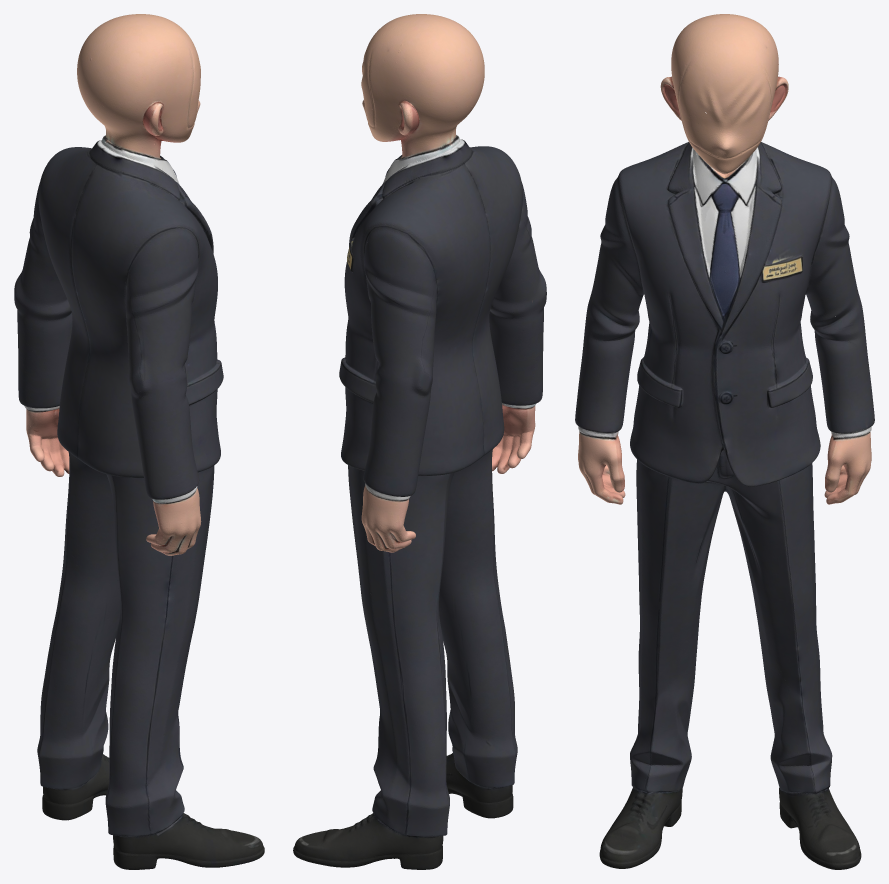
The model's file is businessman+in+suit+3d+model.glb.
The picture shows the model from 3 angles, left to right: view 1: azimuth 30°, elevation 25°; view 2: azimuth 150°, elevation 25°; view 3: azimuth 270°, elevation 25°; orthographic projection.
Visible parts, largest first — view 1: tripo_node_bf5deca2-41f0-47f9-9183-4d7b62cb8e66; view 2: tripo_node_bf5deca2-41f0-47f9-9183-4d7b62cb8e66; view 3: tripo_node_bf5deca2-41f0-47f9-9183-4d7b62cb8e66.
Boxes of the visible parts, x1,y1,x2,y2 form: tripo_node_bf5deca2-41f0-47f9-9183-4d7b62cb8e66: [14, 14, 264, 869]; tripo_node_bf5deca2-41f0-47f9-9183-4d7b62cb8e66: [293, 14, 546, 869]; tripo_node_bf5deca2-41f0-47f9-9183-4d7b62cb8e66: [575, 14, 874, 869].
Size of the model in its own units: 0.1802 by 1 by 0.333.
1 material, 1 textured.
